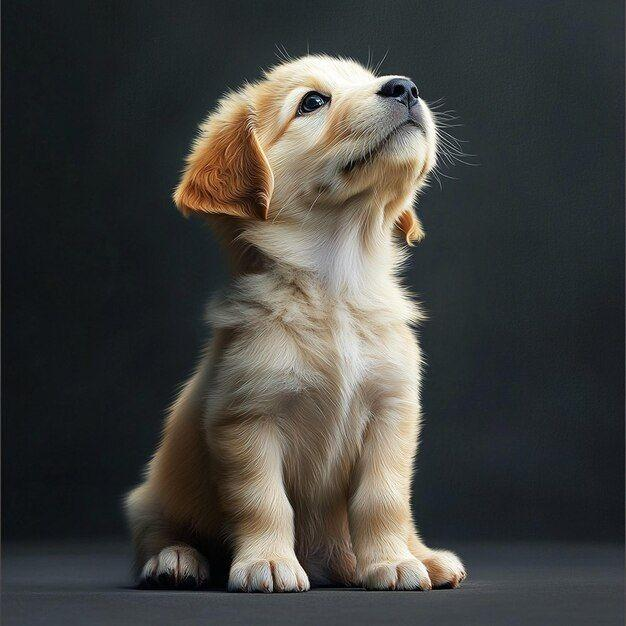puppy-dog: (122, 50, 469, 592)
